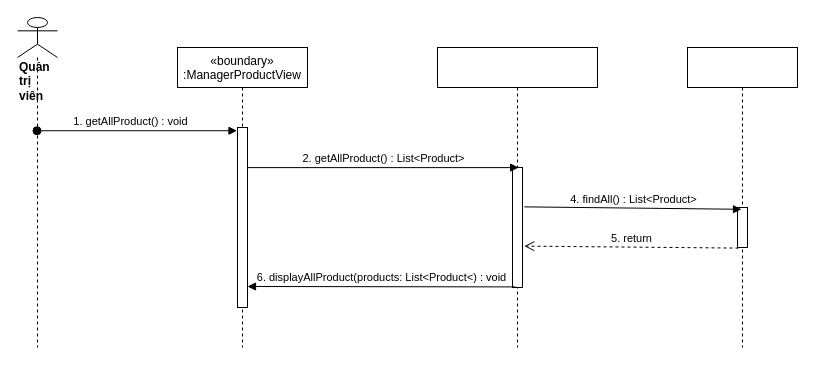
The diagram is 815 pixels wide and 365 high, and some of its shapes have lost their labels. Each missing label, with the centre of its shape:
"«control» : ProductController" goes at pixel 517 197.
"«entity» :Produt" goes at pixel 742 197.
